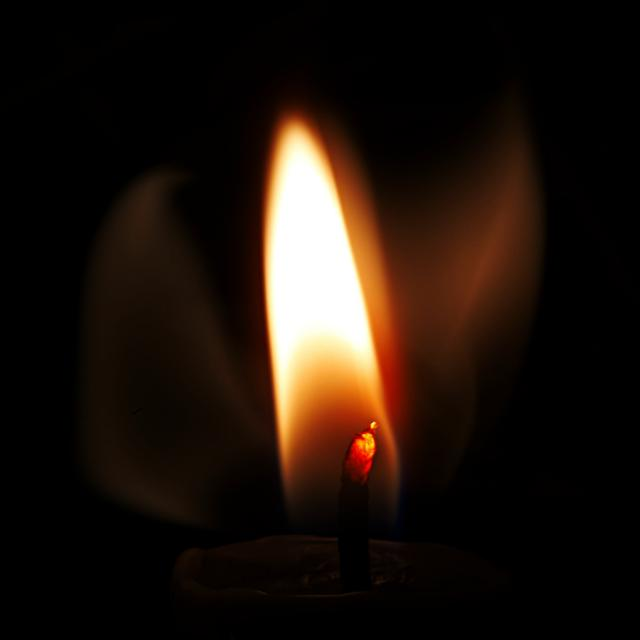Fire_Save: (232, 98, 418, 548)
